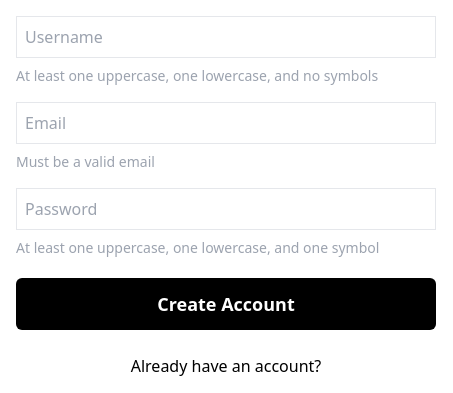
Test: Testing successfull signup › Signup is successful
Type "Xavian10" into the field with placeholder "Username". click: (226, 37)
box: [16, 16, 436, 58]
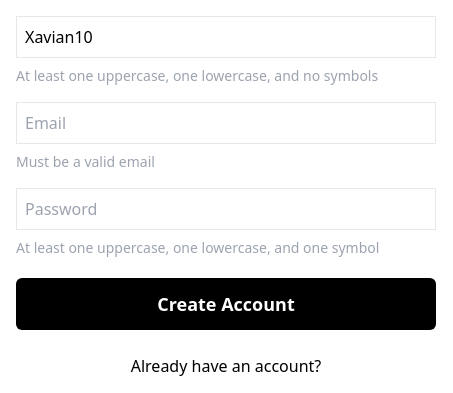
Type "XavianMoody1025@gmail.com" into the field with placeholder "Email". click: (226, 123)
box: [16, 102, 436, 144]
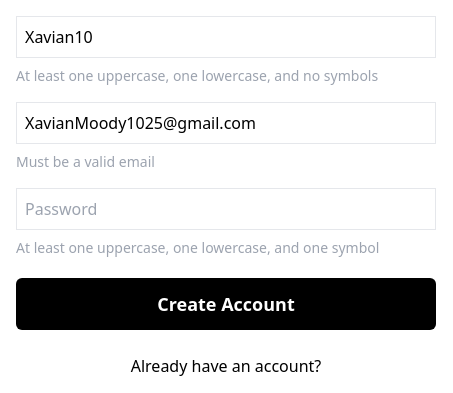
Type "Wwetna123#" into the password field with placeholder "Password". click: (226, 209)
box: [16, 188, 436, 230]
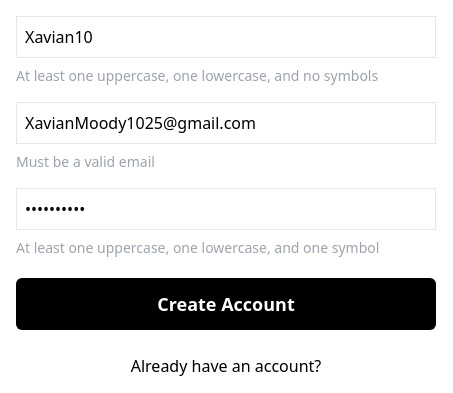
Click the button "Create Account". click: (226, 304)
box: [16, 278, 436, 330]
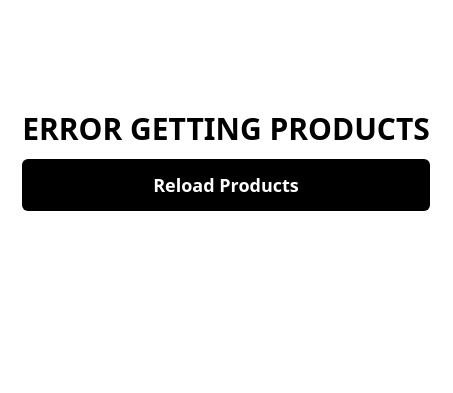
Expected: the element showing "ERROR GETTING PRODUCTS Reload Products" is shown, [22, 108, 430, 211]
